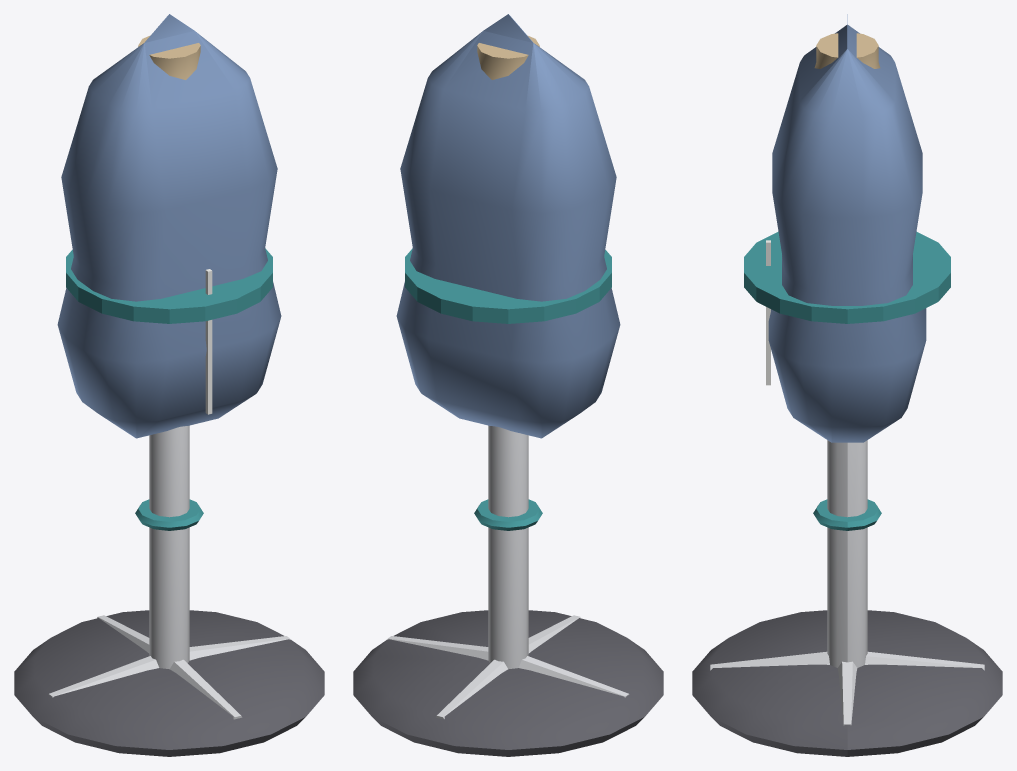
Rendered from dry-cleaners-and-alterations-shop-tailors-dummy-petite-3cbecd32__34971.glb.
3 views of the same model, side by side, from view 1: azimuth 30°, elevation 25°; view 2: azimuth 150°, elevation 25°; view 3: azimuth 270°, elevation 25° (orthographic).
Visible parts, largest first — view 1: tailors-dummy-petite; view 2: tailors-dummy-petite; view 3: tailors-dummy-petite.
Part boxes in pixels (x1,y1,x2,y2): tailors-dummy-petite: (14, 14, 324, 756); tailors-dummy-petite: (353, 14, 663, 756); tailors-dummy-petite: (692, 14, 1002, 756).
Bounding box in the file's own units: 0.504 × 1.2 × 0.4964.
